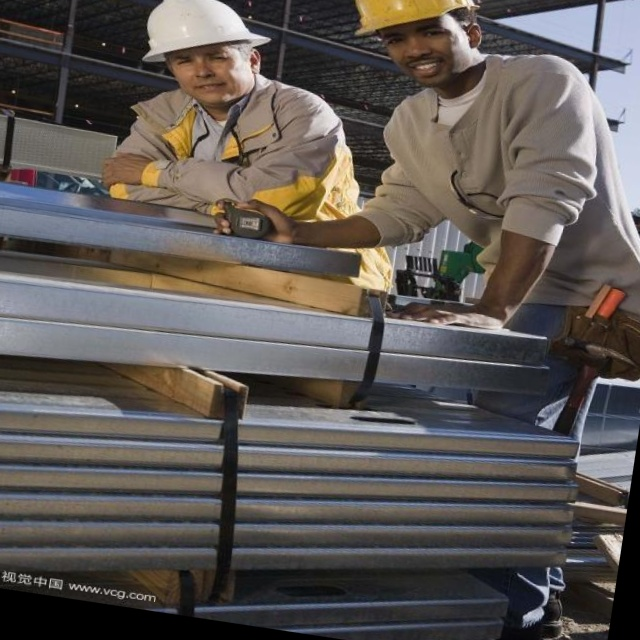Con_Casco: (143, 0, 283, 103), (346, 0, 503, 81)
